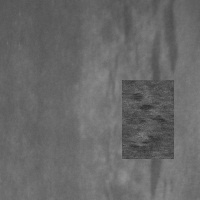inclusion: (144, 1, 182, 180), (145, 133, 171, 199), (115, 2, 139, 53)
rolled-in_scale: (122, 80, 174, 159)
